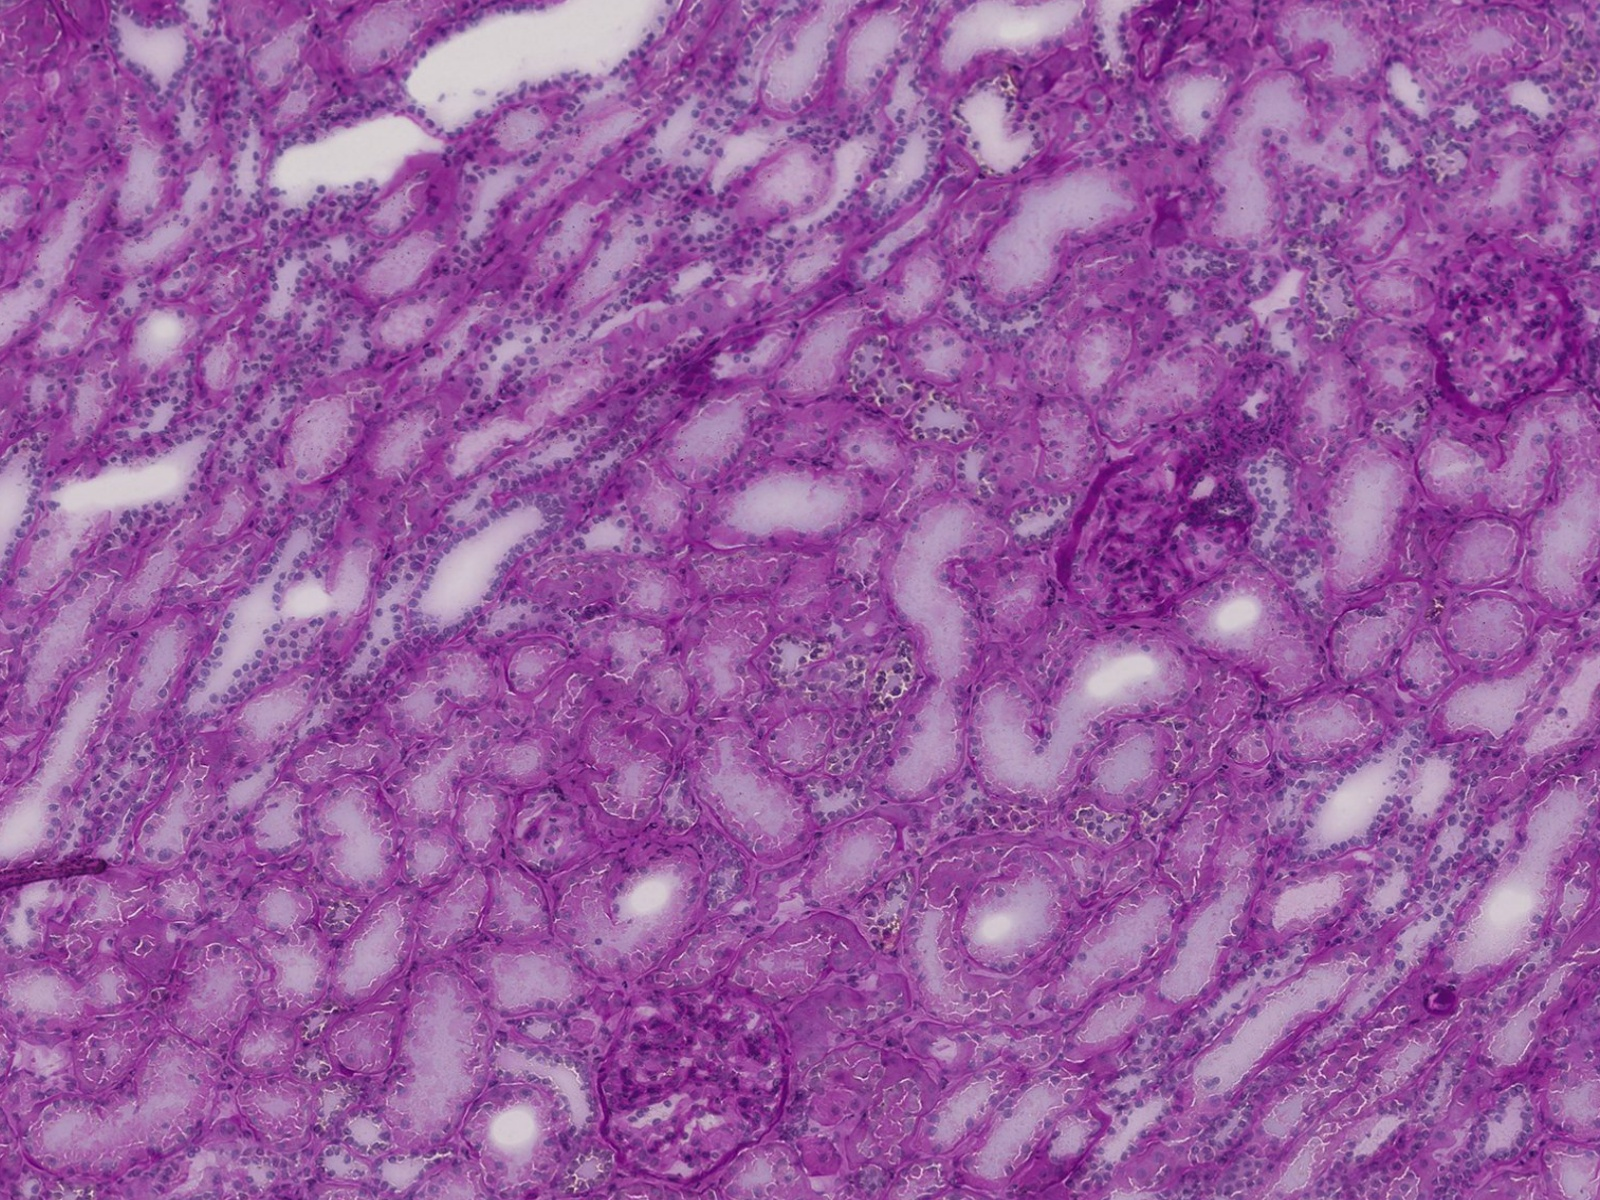Glomeruli: (592, 973, 795, 1185), (1051, 444, 1265, 635), (1436, 252, 1580, 417)
